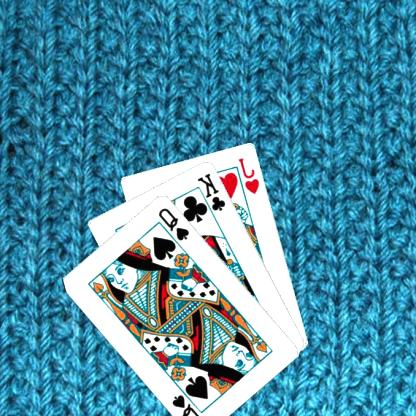JH: (238, 155, 262, 195)
KC: (196, 170, 229, 220)
QS: (157, 205, 192, 242), (171, 391, 206, 416)
